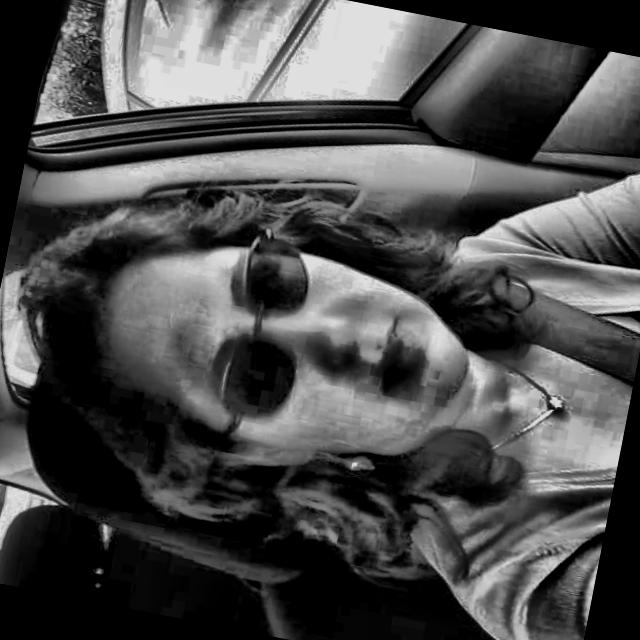closed_mouth: (364, 302, 441, 417)
